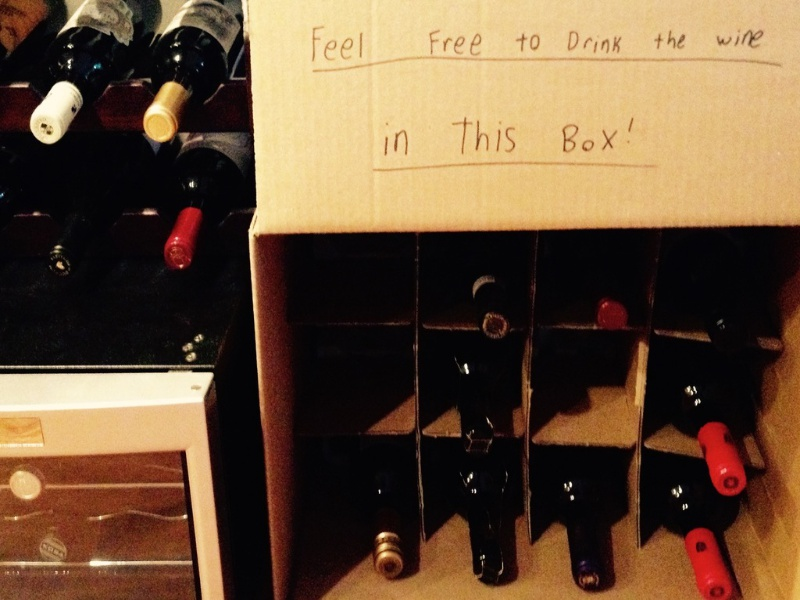wine: (249, 222, 800, 599), (2, 5, 255, 393)
